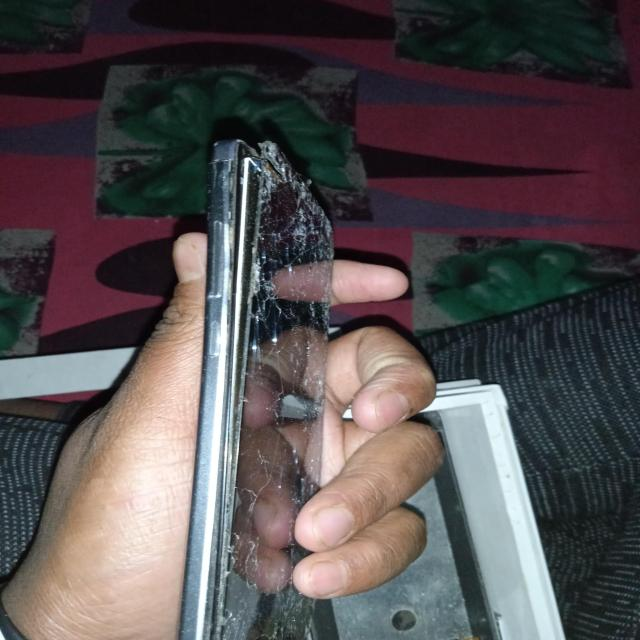mobile: (39, 68, 497, 640)
